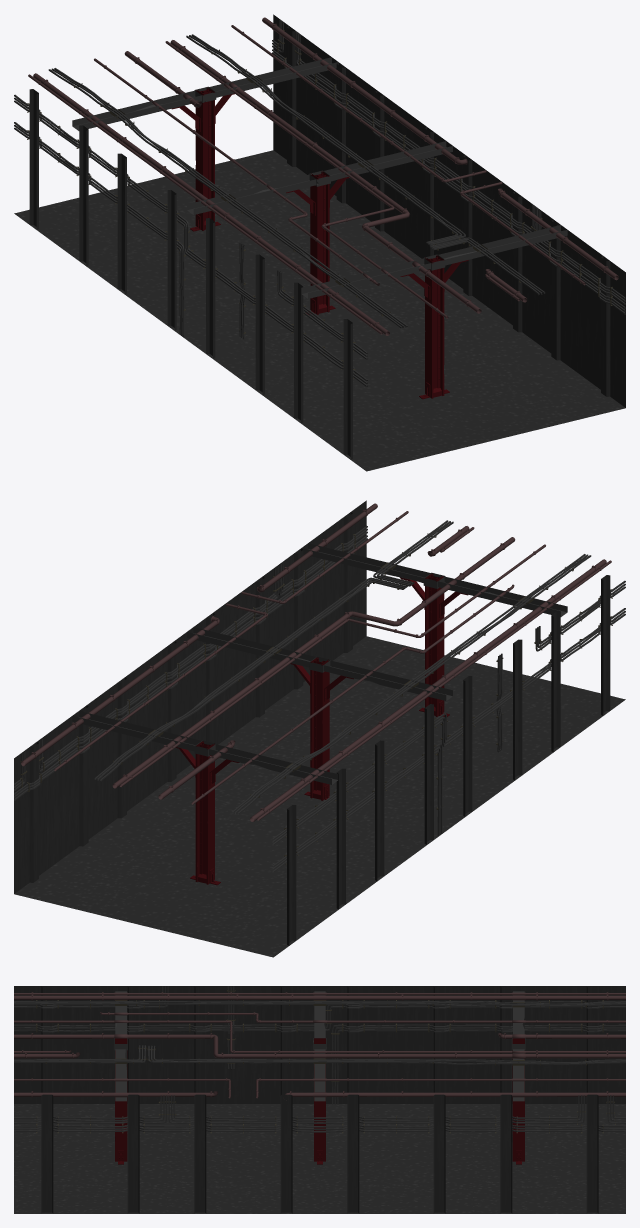
File: SW_ENV_RailTunnel_B_01_Double_20m_FF.fbx
3 renders of one model, top to bottom at view 1: azimuth 30°, elevation 25°; view 2: azimuth 150°, elevation 25°; view 3: azimuth 270°, elevation 25°, orthographic. The views are drawn at different scales.
Visible parts, largest first — view 1: SW_ENV_RailTunnel_B_01_Double_20m_FF; view 2: SW_ENV_RailTunnel_B_01_Double_20m_FF; view 3: SW_ENV_RailTunnel_B_01_Double_20m_FF.
Boxes of the visible parts, box(x1,y1,x2,y2) form: SW_ENV_RailTunnel_B_01_Double_20m_FF: box(14, 14, 625, 471); SW_ENV_RailTunnel_B_01_Double_20m_FF: box(14, 500, 625, 957); SW_ENV_RailTunnel_B_01_Double_20m_FF: box(14, 986, 625, 1213).
Bounding box in the file's own units: 8.5 × 4.25 × 20.
